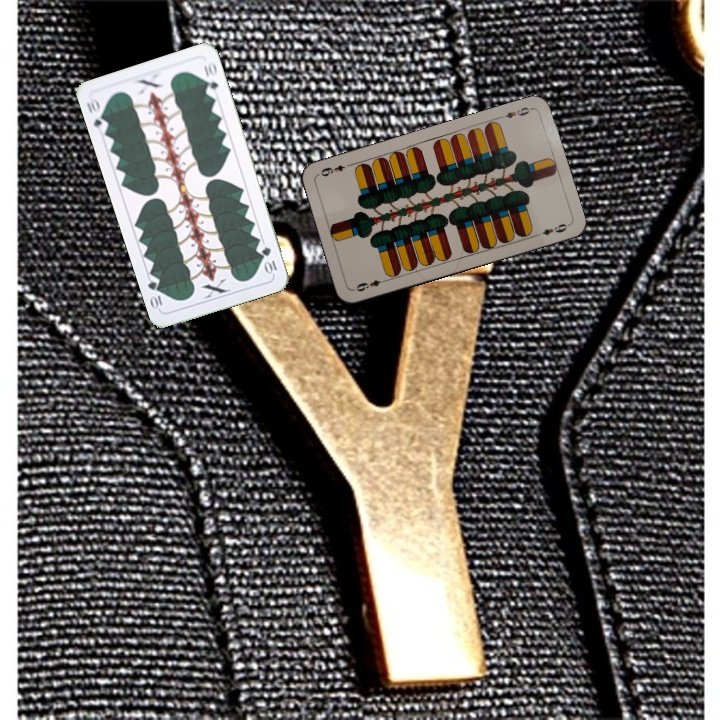E9: (350, 275, 390, 294), (495, 103, 535, 121)
G10: (82, 94, 111, 135), (258, 243, 280, 277)
